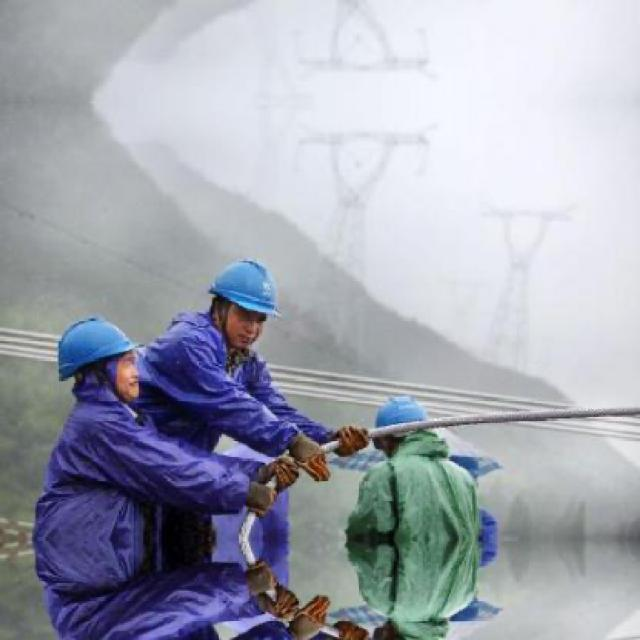helmet: (49, 312, 146, 412), (203, 249, 288, 351), (368, 394, 435, 454), (366, 622, 436, 638)
